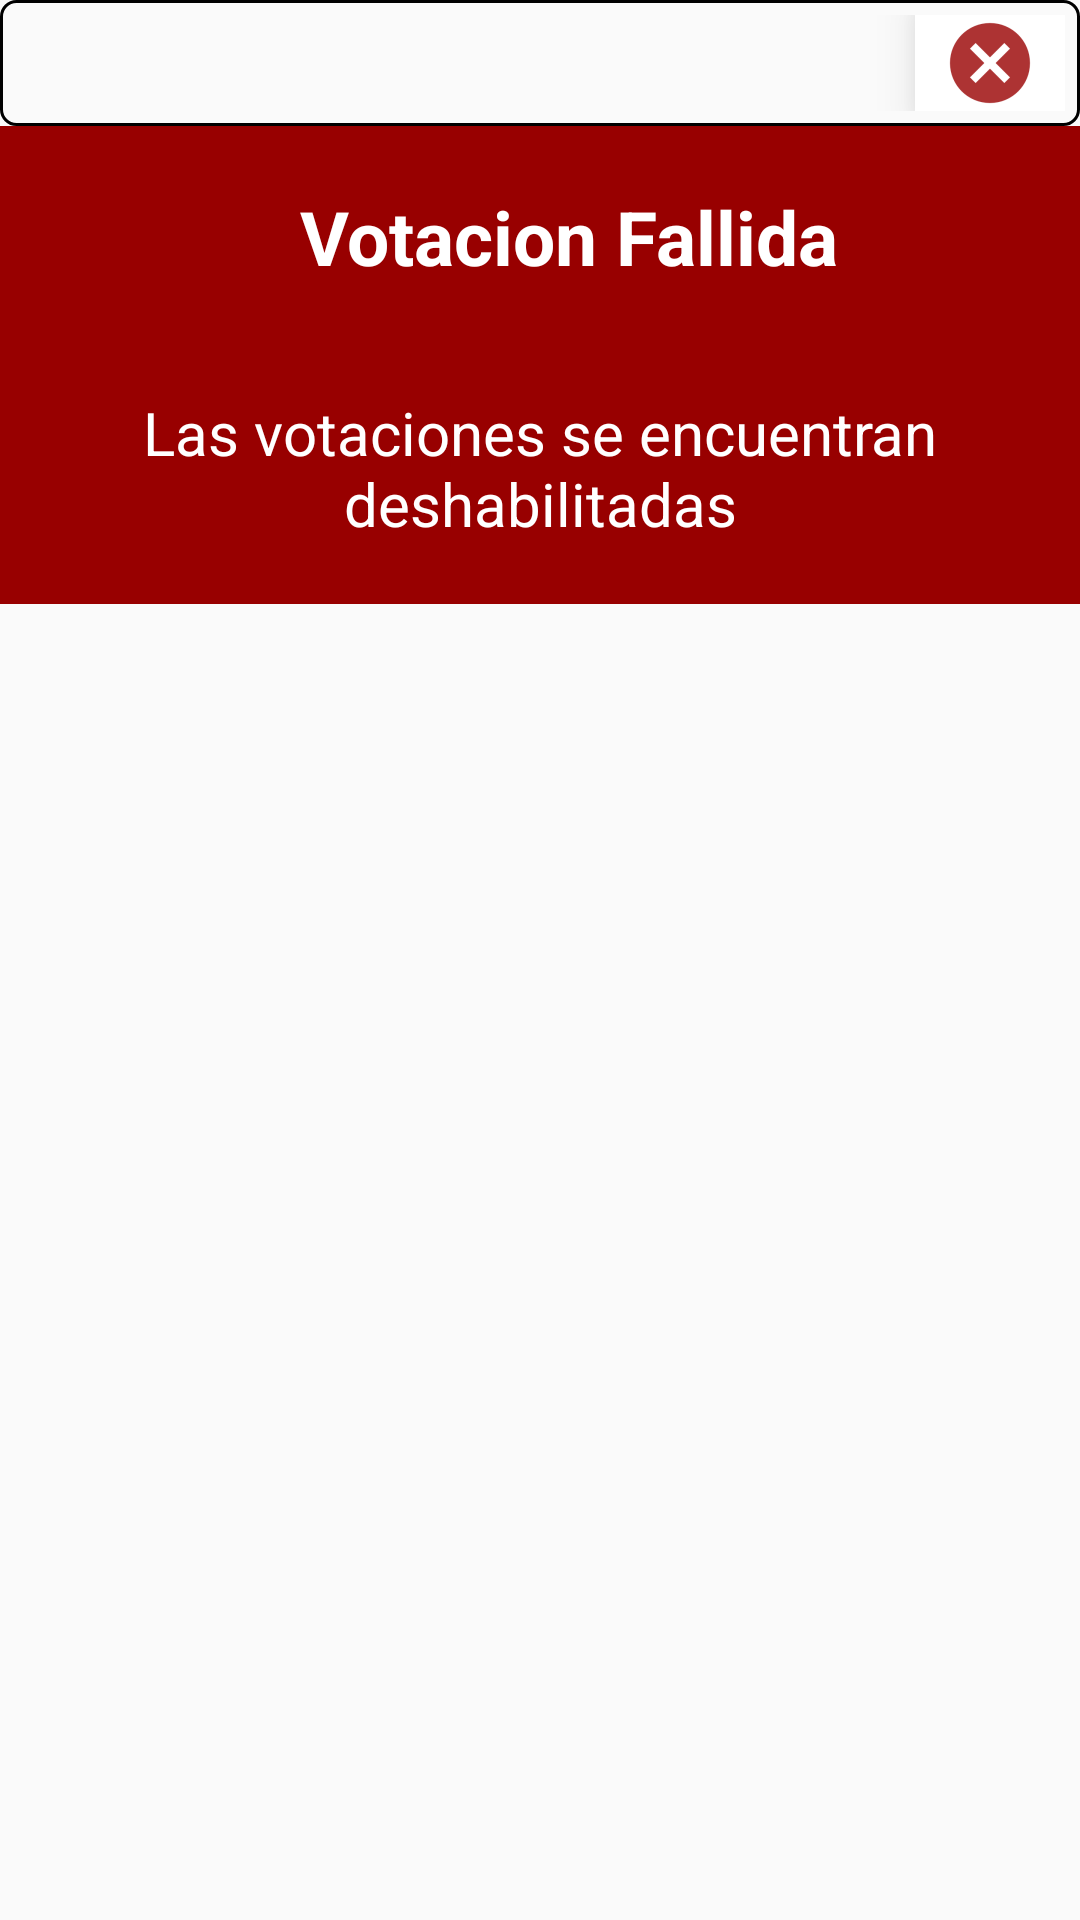

Where icons sit on this 1080w x 1920h app screen, as (x1, y1, x2, y2):
salir: (950, 23, 1030, 103)
